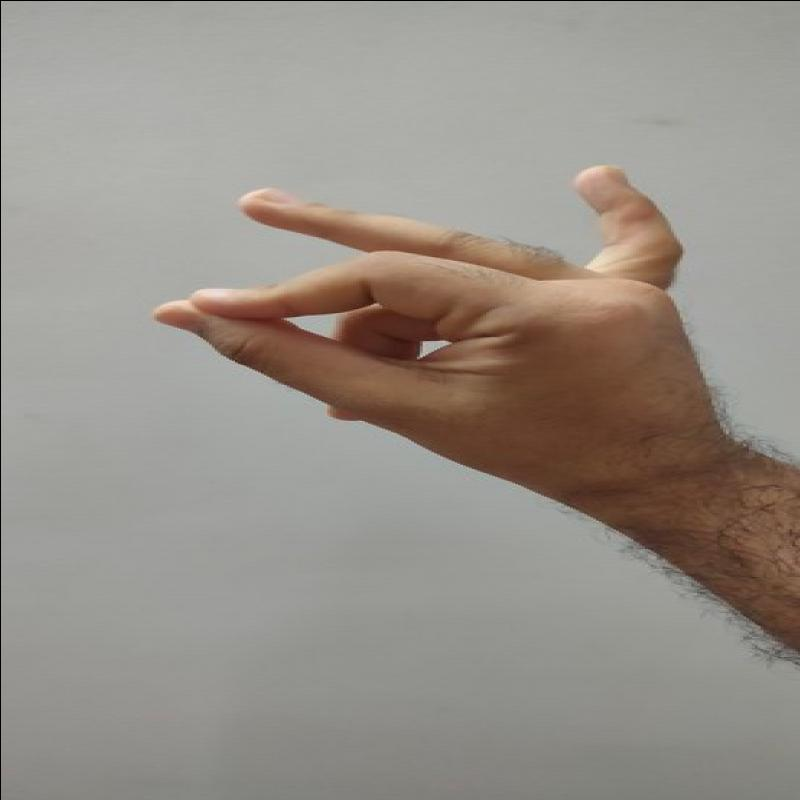Katakam: (118, 148, 730, 533)
